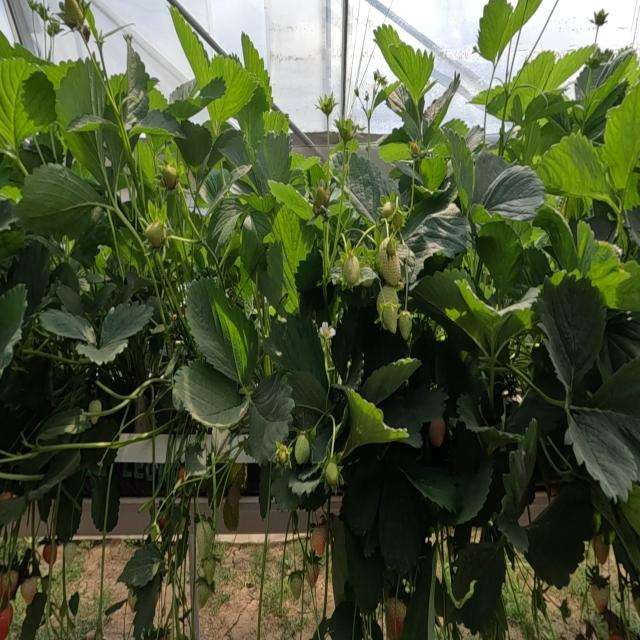Flowers: (320, 322, 334, 338)
Leaves: (412, 268, 537, 350), (537, 275, 605, 390), (186, 278, 258, 385), (527, 479, 595, 586), (16, 164, 106, 241), (566, 410, 639, 499), (56, 59, 107, 181), (573, 221, 640, 310), (377, 460, 429, 573), (332, 305, 406, 380), (537, 133, 614, 203), (374, 24, 434, 105), (452, 543, 505, 633), (265, 314, 327, 389), (173, 360, 241, 425), (586, 360, 640, 441), (403, 201, 471, 265), (0, 58, 47, 148), (248, 373, 293, 464), (84, 301, 153, 360), (500, 421, 538, 526), (344, 517, 385, 614), (380, 388, 447, 447), (479, 163, 546, 220), (603, 84, 639, 189), (167, 2, 209, 88), (209, 55, 255, 132), (347, 153, 397, 222), (458, 399, 523, 452), (346, 390, 405, 447), (340, 460, 383, 537), (476, 222, 522, 292), (448, 457, 493, 525), (403, 548, 436, 639), (12, 243, 50, 320), (402, 459, 456, 510), (535, 205, 577, 270), (361, 359, 419, 403), (204, 195, 244, 254), (515, 52, 555, 110), (253, 132, 290, 194), (1, 285, 27, 373), (386, 84, 424, 141), (91, 462, 121, 532), (241, 207, 271, 276), (547, 45, 594, 89), (478, 0, 511, 62), (241, 32, 271, 100), (125, 39, 149, 124), (118, 541, 162, 587), (32, 408, 90, 442), (448, 132, 474, 202), (41, 310, 95, 343), (274, 221, 304, 279), (424, 78, 459, 126), (270, 182, 314, 219), (177, 120, 211, 167), (271, 468, 300, 511), (218, 129, 249, 167), (200, 169, 231, 207), (21, 592, 46, 639), (419, 153, 447, 190), (140, 109, 180, 134), (136, 140, 156, 189), (67, 114, 114, 132), (262, 110, 289, 136), (169, 79, 197, 103), (291, 153, 321, 174), (288, 478, 321, 497), (540, 209, 560, 230), (231, 165, 251, 181)
Strawberries: (377, 286, 399, 332), (386, 600, 406, 639), (196, 520, 214, 562), (59, 0, 83, 30), (380, 248, 399, 284), (0, 571, 18, 607), (342, 255, 361, 287), (590, 584, 609, 613), (223, 497, 239, 531), (315, 94, 335, 118), (20, 578, 38, 604), (312, 525, 327, 556), (145, 222, 163, 247), (429, 419, 445, 446), (295, 435, 310, 463), (288, 571, 303, 599), (592, 535, 607, 563), (323, 461, 339, 487), (161, 166, 177, 189), (198, 580, 211, 607), (1, 605, 11, 639), (202, 558, 215, 583), (399, 312, 411, 339), (307, 564, 319, 588), (64, 542, 75, 567), (43, 543, 55, 564), (277, 444, 289, 464), (315, 188, 327, 208), (379, 202, 394, 218), (157, 512, 166, 530), (128, 588, 135, 611), (410, 142, 420, 157), (179, 468, 186, 480)
